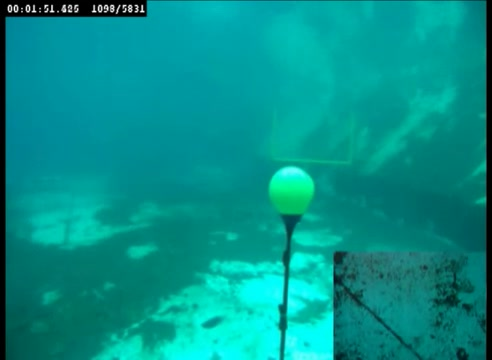buoy_green: (268, 167, 312, 222)
